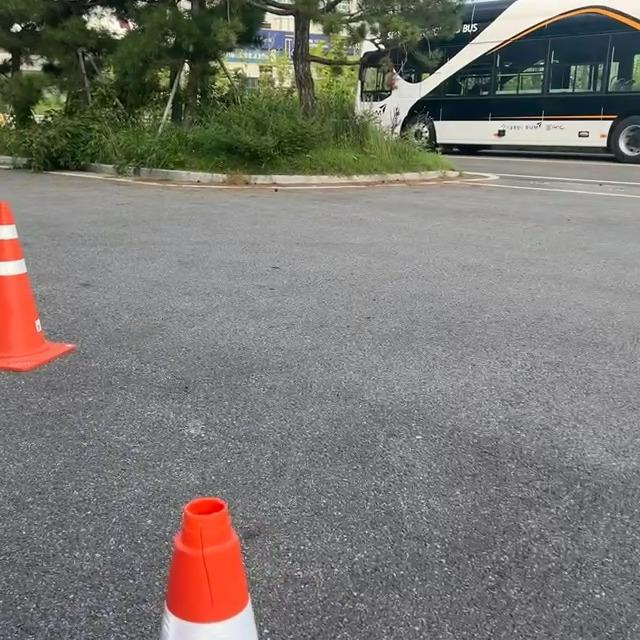fallen_object: (0, 170, 111, 417), (103, 461, 251, 640)
